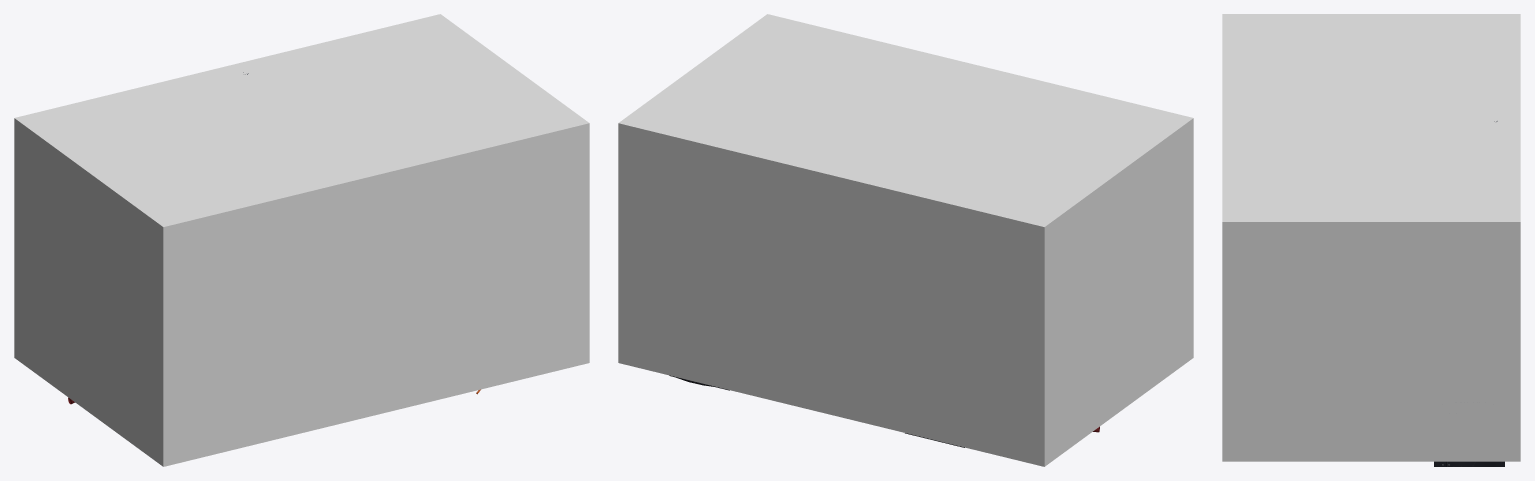
File: Furn_Workstation_Lived.gltf
3 renders of one model, left to right at view 1: azimuth 30°, elevation 25°; view 2: azimuth 150°, elevation 25°; view 3: azimuth 270°, elevation 25°, orthographic.
Visible parts, largest first — view 1: Furn_Workstation_Lived_COL; view 2: Furn_Workstation_Lived_COL; view 3: Furn_Workstation_Lived_COL, Furn_Workstation_Lived.
Boxes of the visible parts, x1,y1,x2,y2 form: Furn_Workstation_Lived_COL: (14, 14, 589, 466); Furn_Workstation_Lived_COL: (618, 14, 1193, 466); Furn_Workstation_Lived_COL: (1222, 14, 1520, 461); Furn_Workstation_Lived: (1434, 121, 1504, 466).
Bounding box in the file's own units: 3.12 × 1.73 × 1.89.
21 materials, 7 textured.
